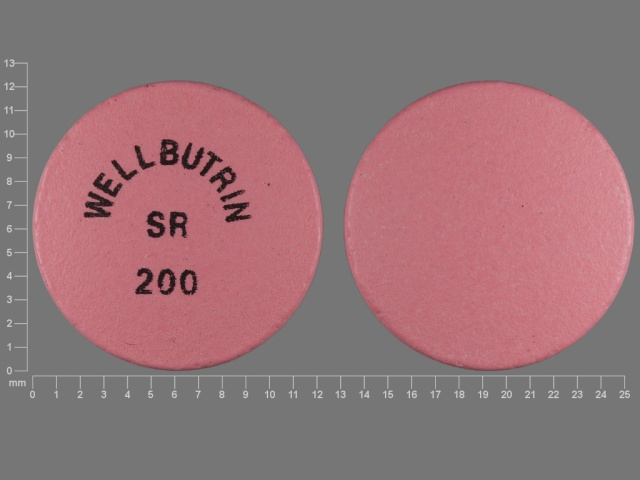0: (156, 266, 177, 296), (179, 268, 200, 297)
B: (157, 138, 179, 166)
E: (92, 169, 124, 197)
I: (220, 189, 244, 200)
L: (109, 156, 139, 179), (134, 145, 156, 169)
N: (224, 203, 251, 222)
R: (134, 265, 155, 296), (166, 212, 190, 239), (212, 166, 234, 191)
S: (146, 209, 166, 240)
T: (201, 151, 220, 175)
U: (182, 141, 203, 169)
W: (82, 191, 115, 221)
